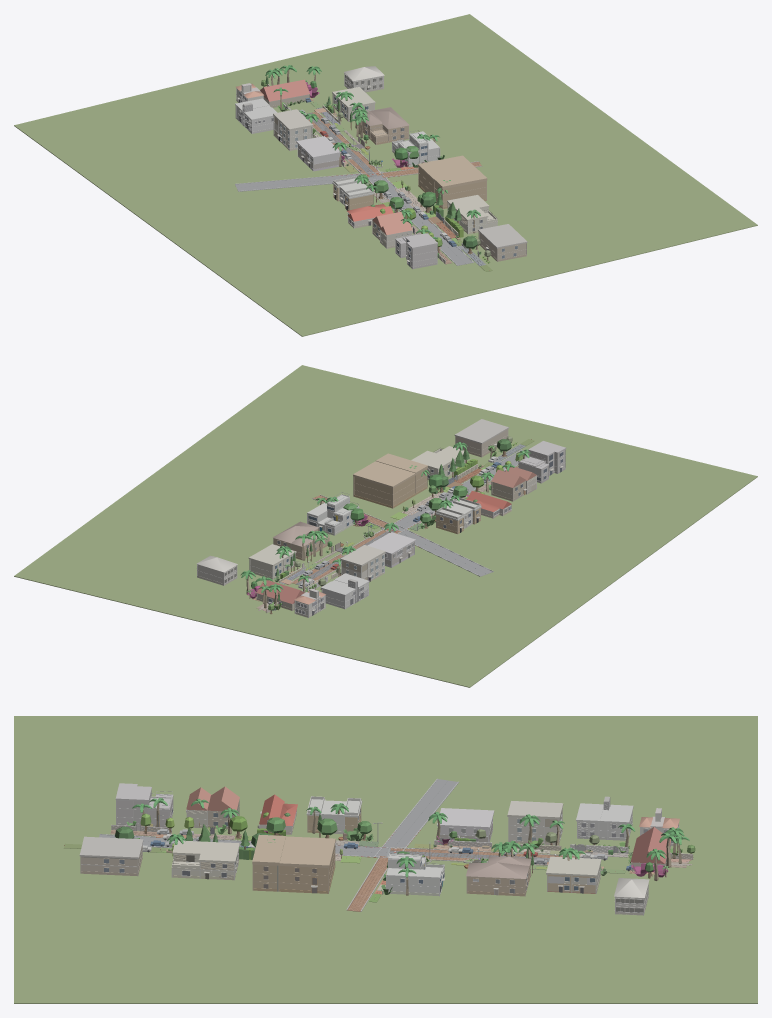
File: world_test3.glb
3 views of the same model, one above another, from view 1: azimuth 30°, elevation 25°; view 2: azimuth 150°, elevation 25°; view 3: azimuth 270°, elevation 25° (orthographic). The views are drawn at different scales.
Bounding box in the file's own units: 210 × 11.8 × 230.
